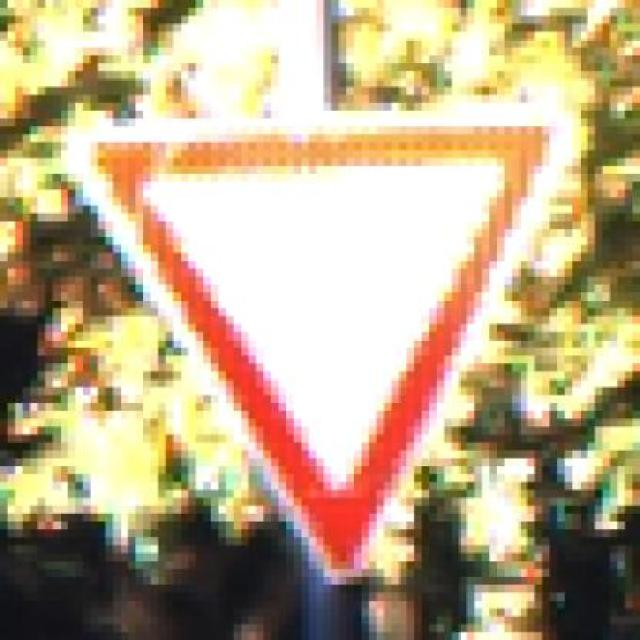Give Way: (60, 102, 588, 593)
